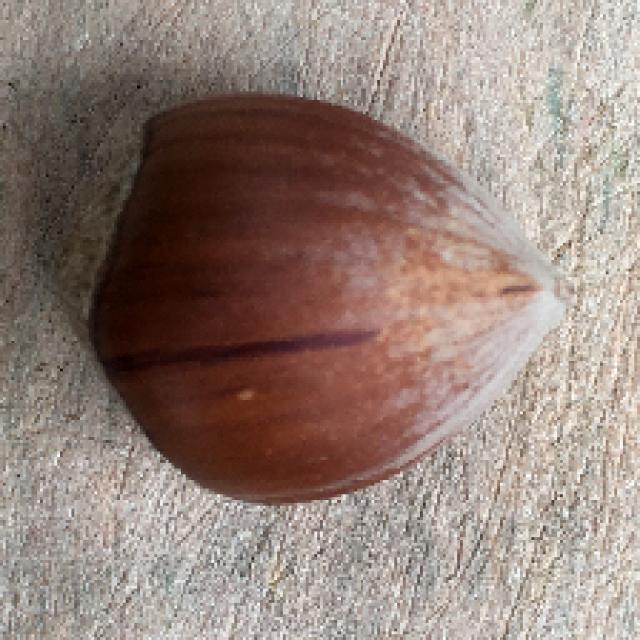qualityHazelnut: (42, 89, 575, 506)
